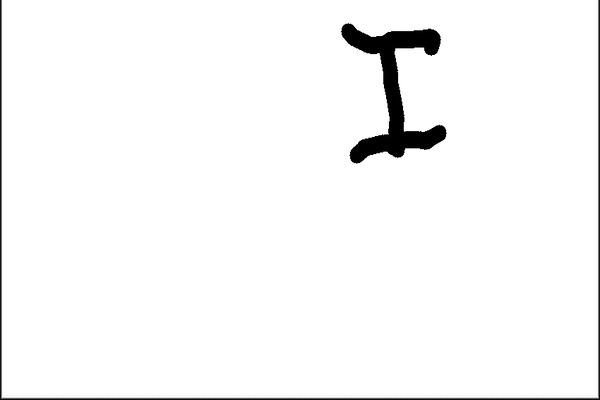i: (340, 17, 452, 166)
